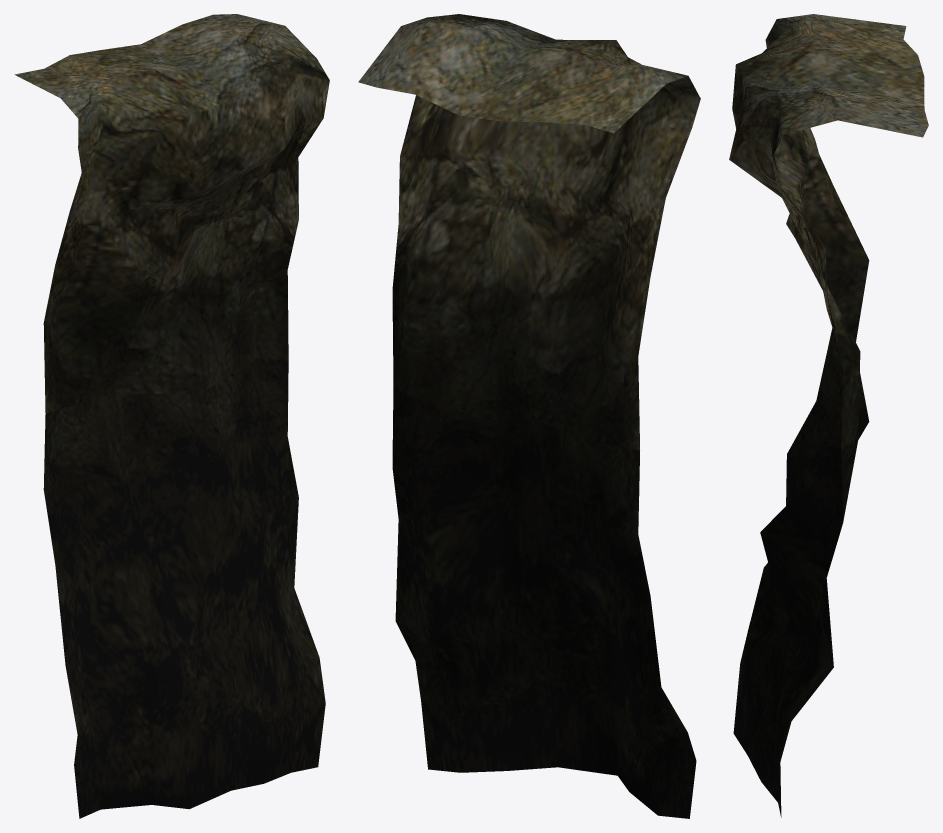
3 renders of one model, left to right at view 1: azimuth 30°, elevation 25°; view 2: azimuth 150°, elevation 25°; view 3: azimuth 270°, elevation 25°, orthographic. The views are drawn at different scales.
Visible parts, largest first — view 1: SMDImport; view 2: SMDImport; view 3: SMDImport.
Part boxes in pixels (<box>): SMDImport: <box>14,14,329,818</box>; SMDImport: <box>358,14,700,818</box>; SMDImport: <box>729,14,928,817</box>.
Size of the model in its own units: 482 by 1320 by 338.
